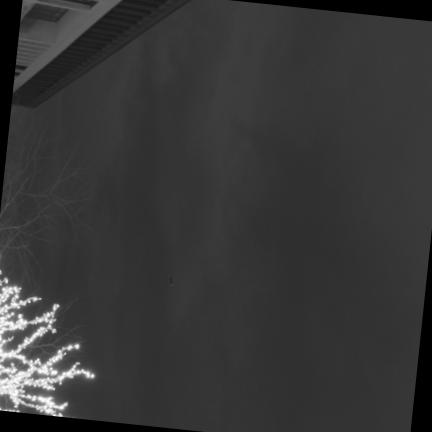Shahed: (168, 275, 171, 285)
